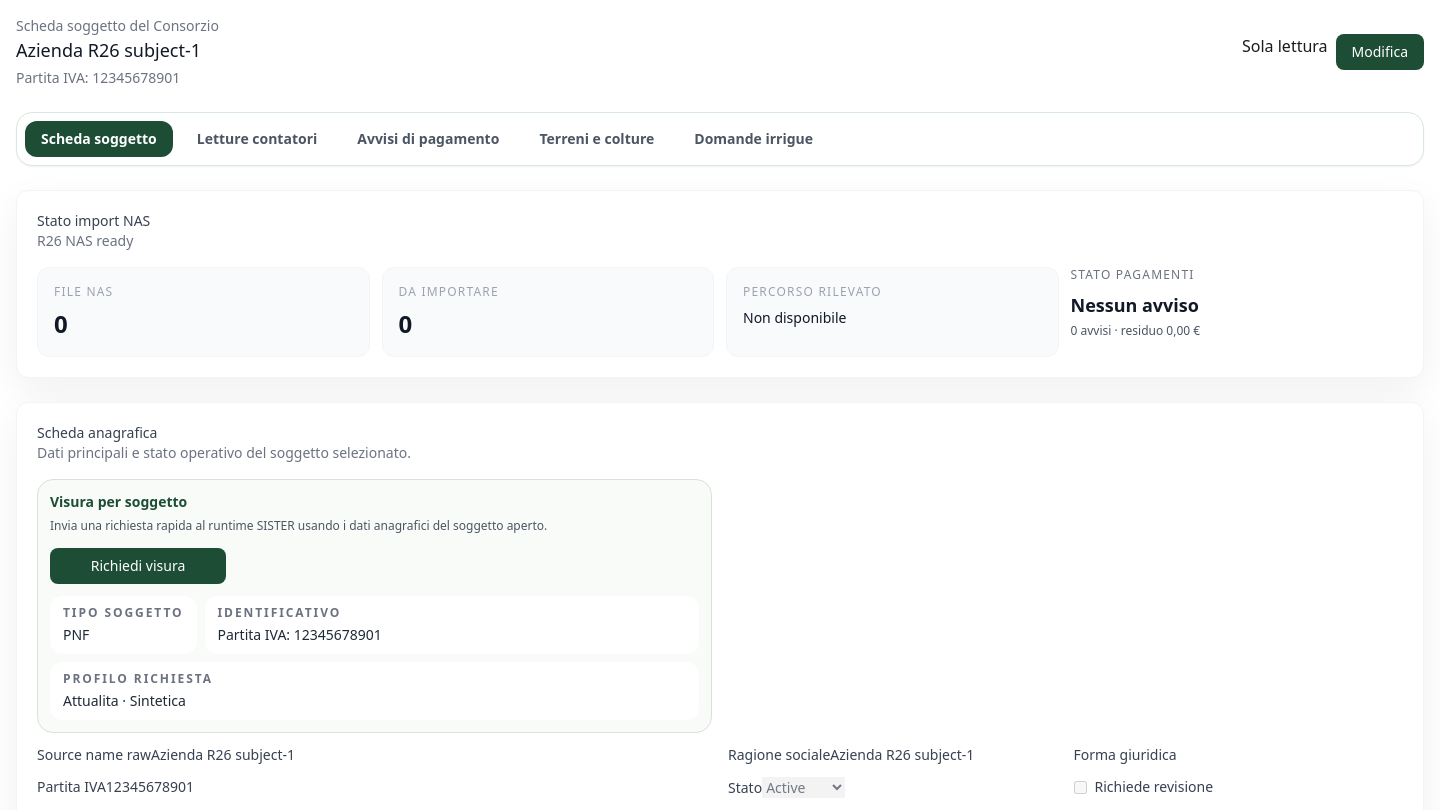
Scenario: R26 public manual-upload access and modal › Inserisci file opens the same empty public modal
Expected: the text "R26 NAS ready" is shown, [37,231,133,250]
Click the button "Modifica".
click(1380, 52)  # box [1336,34,1424,70]
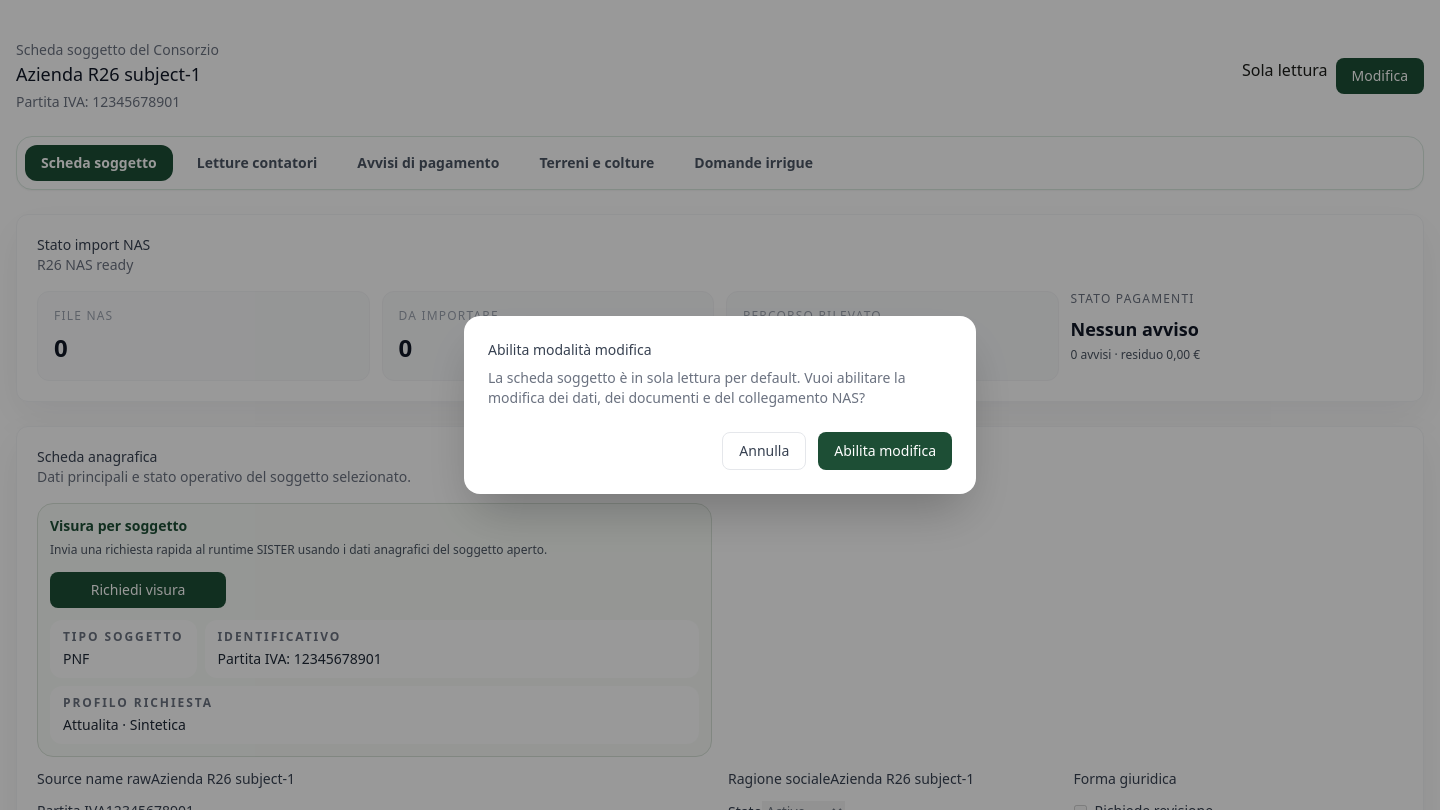
Click the button "Abilita modifica".
click(885, 451)  # box [818,432,952,470]
(page scrolled)
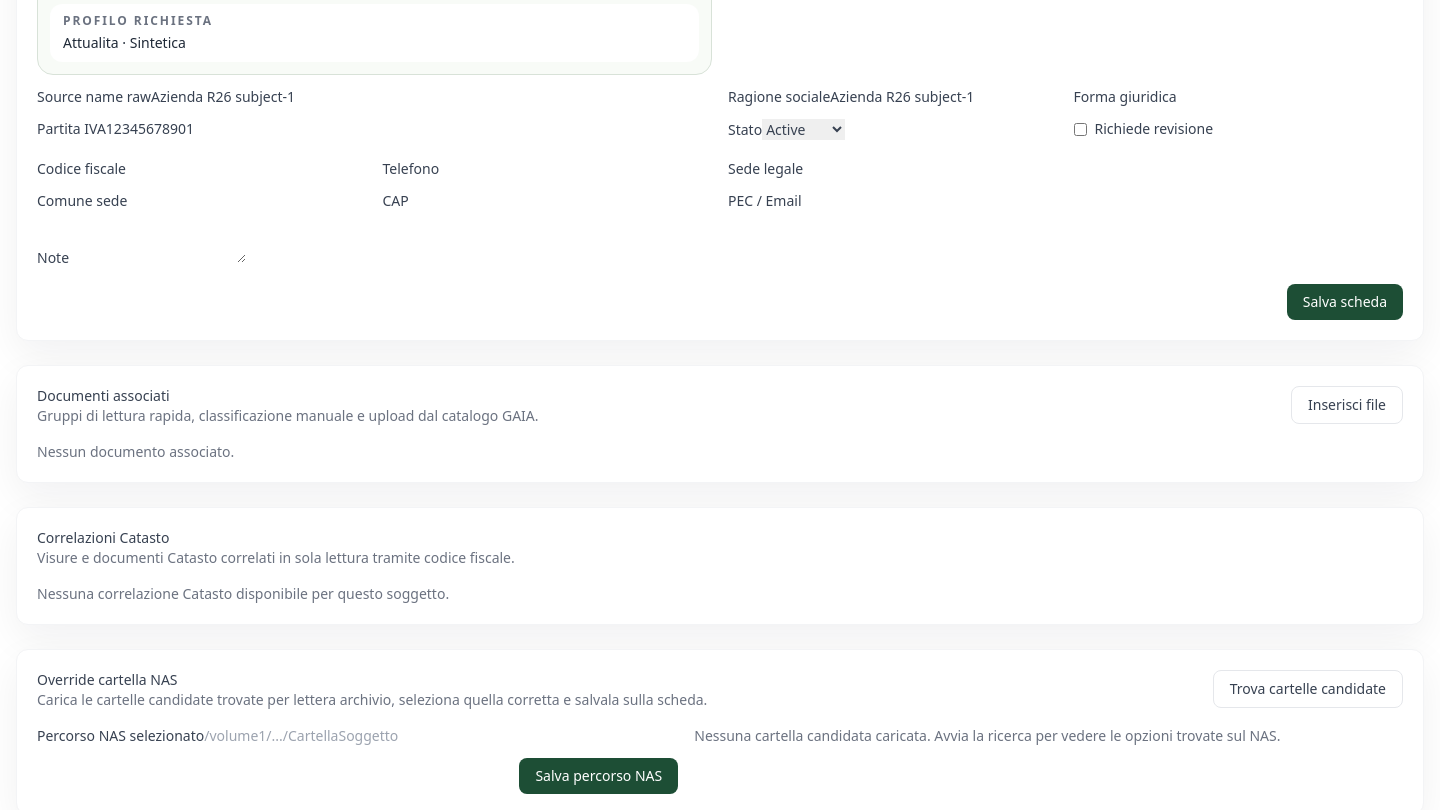
Click the button "Inserisci file".
click(1347, 405)  # box [1291,386,1403,424]
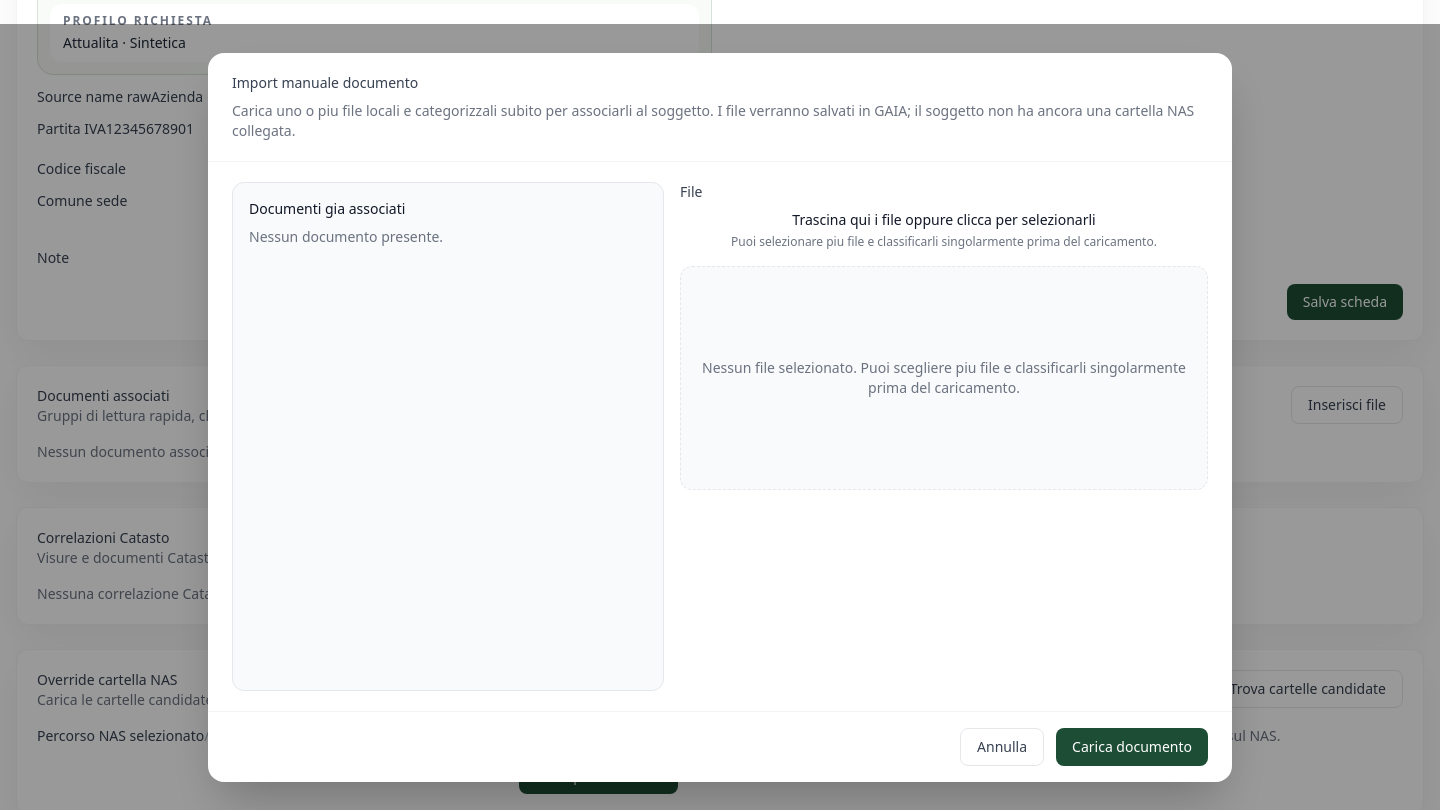
Expected: the text "Import manuale documento" is shown, [232,72,418,92]
Expected: the text "Nessun file selezionato. Puoi scegliere piu file e classificarli singolarmente prima del caricamento." is shown, [702,358,1186,396]
